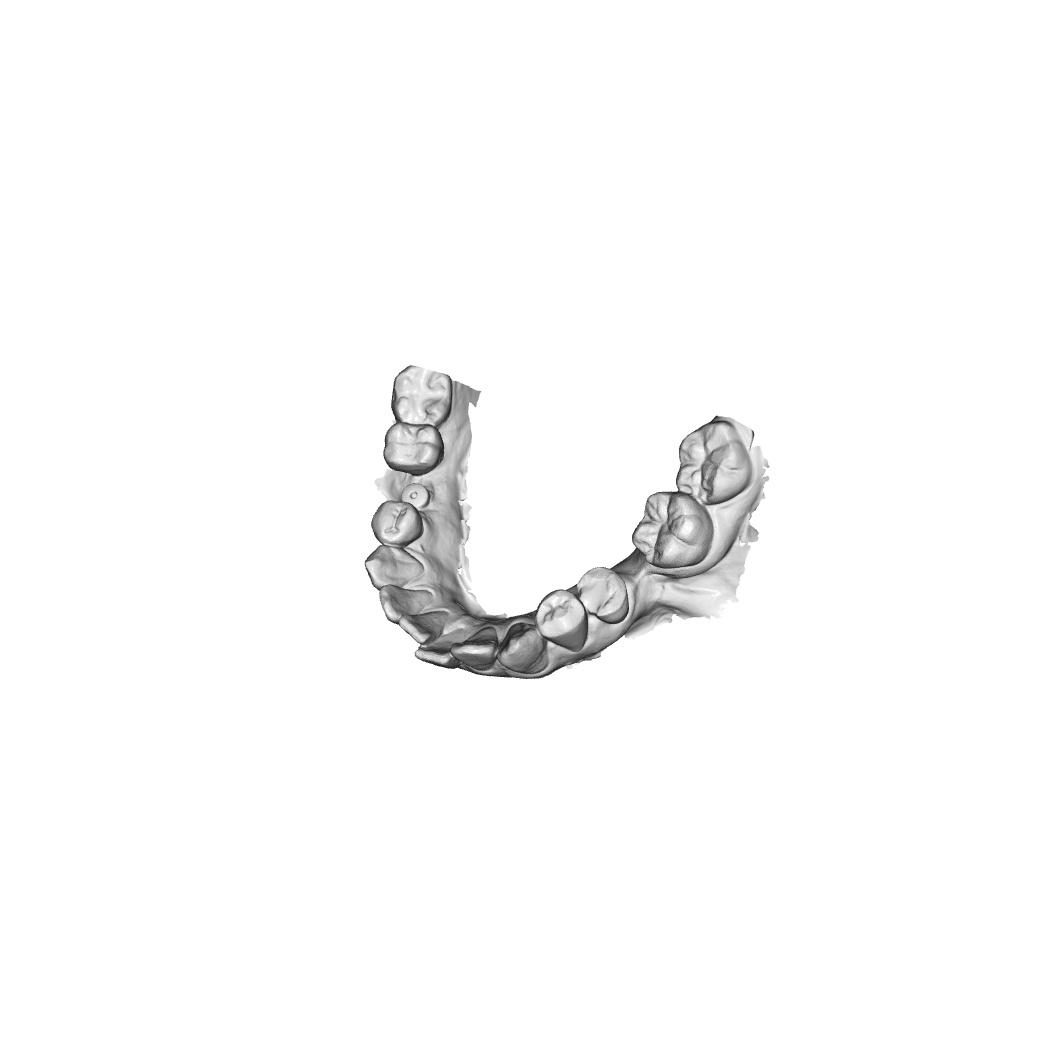canine: (496, 621, 551, 676), (363, 544, 425, 590)
implant: (401, 482, 432, 510)
incisor: (450, 625, 499, 672), (378, 584, 434, 625), (414, 628, 466, 670), (397, 608, 451, 645)
molar: (675, 420, 753, 506), (630, 491, 714, 569), (390, 364, 453, 428), (383, 421, 446, 477)
premolar: (533, 588, 589, 653), (575, 565, 631, 625), (370, 500, 425, 546)
